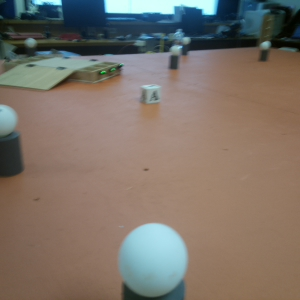blockA: (141, 82, 162, 106)
corner: (262, 13, 276, 41)
obstacle: (112, 219, 204, 300), (1, 103, 23, 184), (21, 38, 42, 54), (257, 42, 271, 62), (169, 45, 179, 71), (182, 36, 192, 59)
side: (82, 61, 133, 84)
slope: (2, 64, 75, 91)
